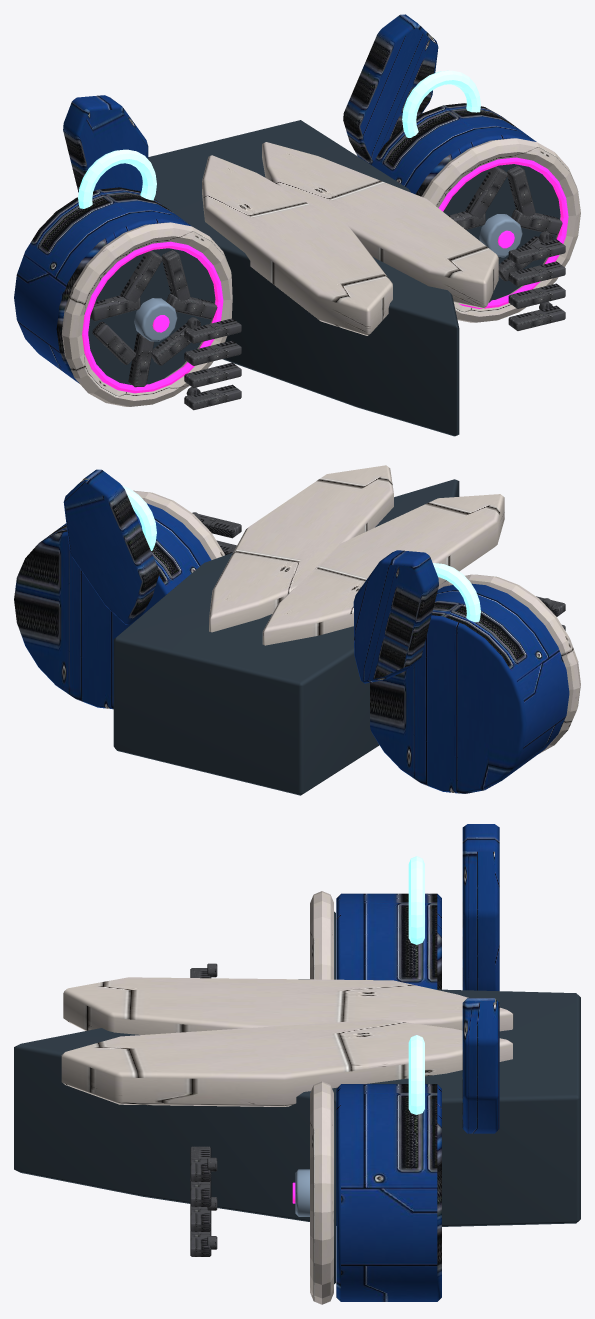
File: patrol_4.glb
The picture shows the model from 3 angles, top to bottom: view 1: azimuth 30°, elevation 25°; view 2: azimuth 150°, elevation 25°; view 3: azimuth 270°, elevation 25°; orthographic projection. The views are drawn at different scales.
Visible parts, largest first — view 1: Split arrow nose, Pointed interceptor chassis, Swept dorsal vane, Turbine impeller blade, Turbine running light, Patrol halo, Turbine hub; view 2: Swept dorsal vane, Pointed interceptor chassis, Split arrow nose, Patrol halo, Turbine impeller blade; view 3: Pointed interceptor chassis, Split arrow nose, Swept dorsal vane, Turbine impeller blade, Patrol halo, Turbine hub.
Part boxes in pixels (<box>): Split arrow nose: <box>62,138,580,406</box>; Pointed interceptor chassis: <box>88,120,560,436</box>; Swept dorsal vane: <box>14,14,536,383</box>; Turbine impeller blade: <box>90,165,565,410</box>; Turbine running light: <box>82,157,568,393</box>; Patrol halo: <box>78,70,480,208</box>; Turbine hub: <box>134,214,522,341</box>; Swept dorsal vane: <box>14,469,569,793</box>; Pointed interceptor chassis: <box>113,479,459,795</box>; Split arrow nose: <box>133,465,580,753</box>; Patrol halo: <box>122,486,480,622</box>; Turbine impeller blade: <box>192,512,565,630</box>; Pointed interceptor chassis: <box>14,911,580,1284</box>; Split arrow nose: <box>61,891,513,1304</box>; Swept dorsal vane: <box>336,824,499,1301</box>; Turbine impeller blade: <box>190,963,217,1256</box>; Patrol halo: <box>408,856,424,1114</box>; Turbine hub: <box>295,979,309,1216</box>.
Bounding box in the file's own units: 1.47 × 0.6893 × 1.23.
Materials: 7 (3 with a texture image).
